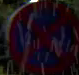No waiting: (4, 0, 77, 74)
